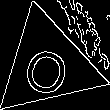O_N: (20, 34, 75, 96)
